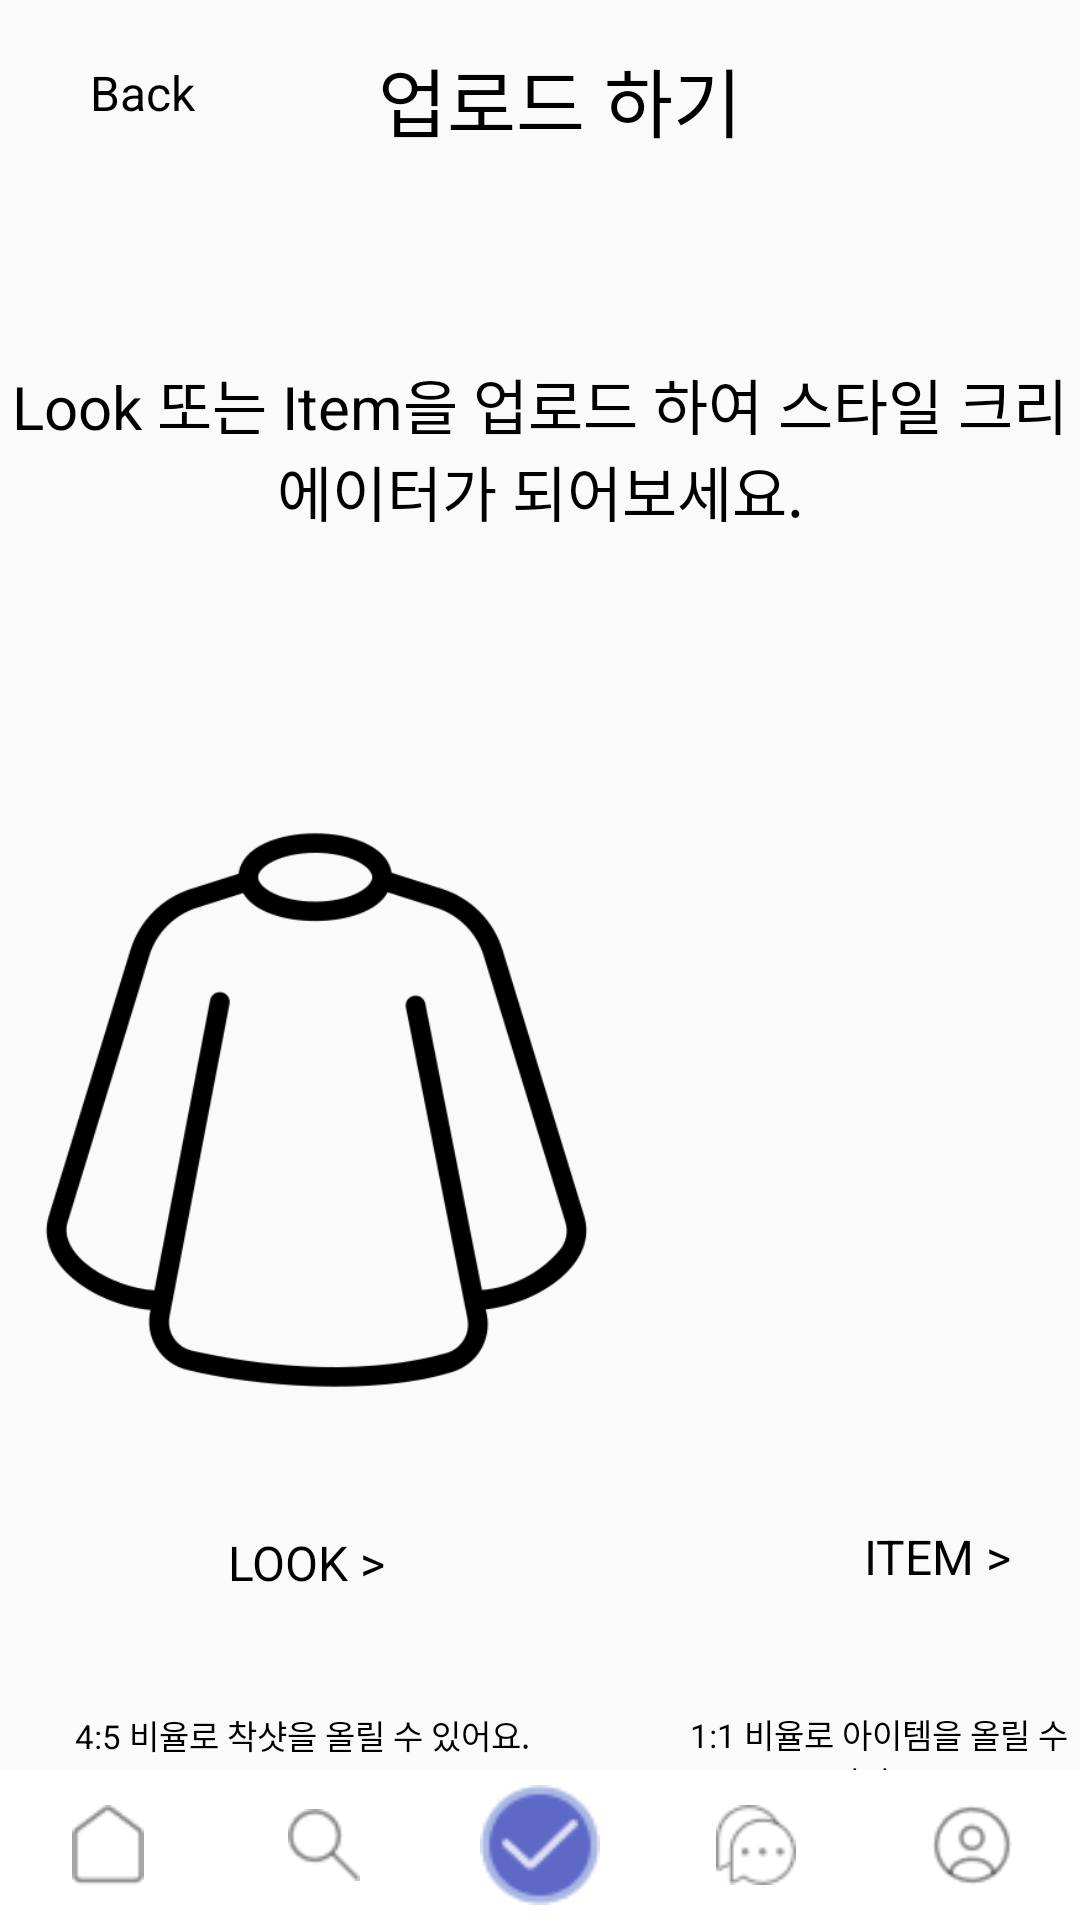

Icon bounding boxes for this 1080w x 1920h phone screenshot, format (x1, y1, x2, y2):
homepage check: (480, 1785, 600, 1905)
homepage home: (72, 1805, 144, 1883)
homepage message: (716, 1805, 796, 1885)
homepage profile: (934, 1807, 1010, 1883)
homepage search: (288, 1809, 360, 1881)
